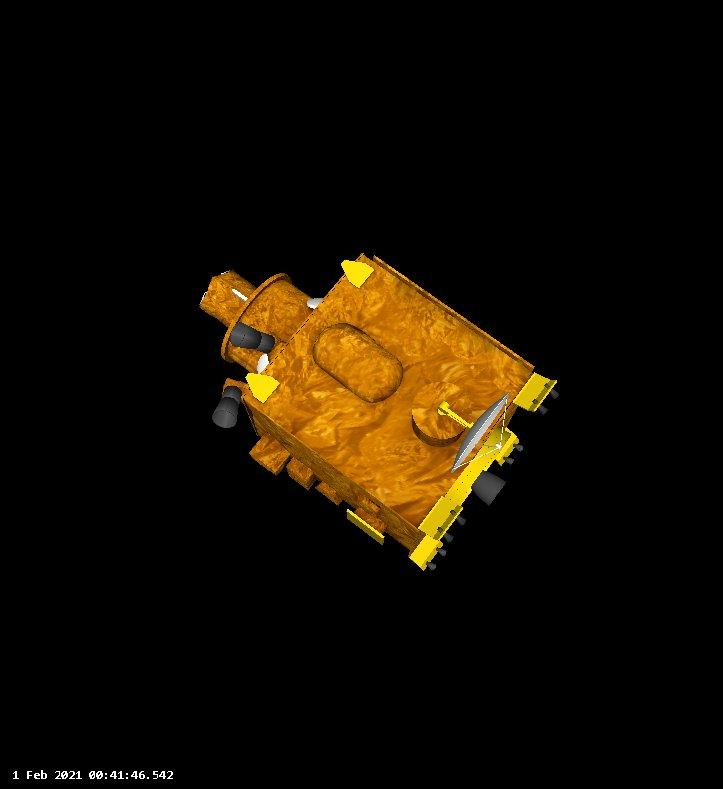antenna: (450, 391, 510, 474), (257, 353, 269, 373), (306, 297, 324, 309)
body: (202, 252, 537, 554)
thruster: (210, 383, 243, 432), (470, 469, 509, 507), (229, 321, 274, 353), (455, 514, 468, 526), (442, 532, 455, 544), (435, 546, 447, 557), (512, 442, 525, 452), (501, 456, 515, 465), (425, 560, 436, 571), (538, 404, 548, 416), (550, 389, 561, 399)
